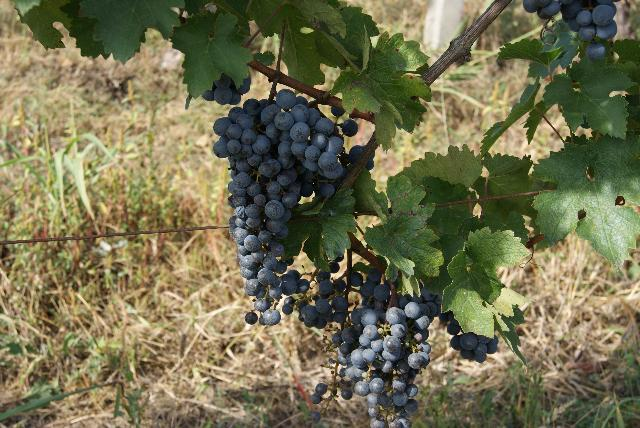grapes: (212, 89, 358, 326), (340, 269, 439, 428), (298, 259, 362, 422), (282, 261, 360, 352)
